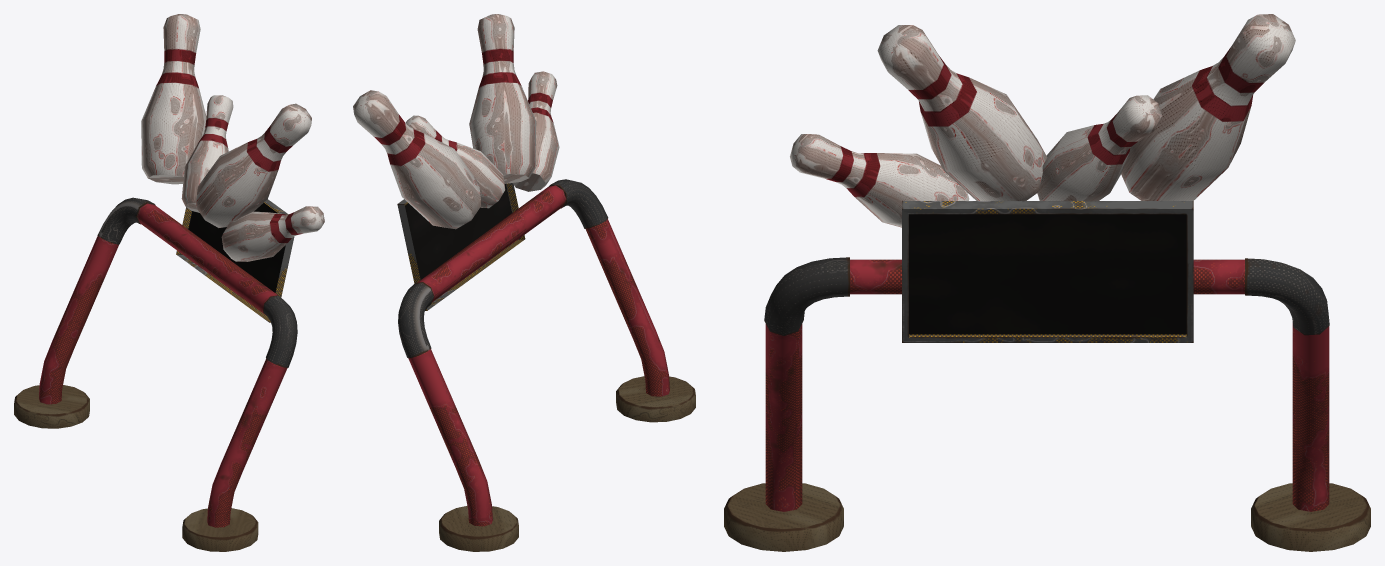
The model's file is SM_BDeckTele.glb.
3 renders of one model, left to right at view 1: azimuth 30°, elevation 25°; view 2: azimuth 150°, elevation 25°; view 3: azimuth 270°, elevation 25°, orthographic. The views are drawn at different scales.
Visible parts, largest first — view 1: SM_BDeckTele; view 2: SM_BDeckTele; view 3: SM_BDeckTele.
Boxes of the visible parts, <box> form: SM_BDeckTele: <box>14,14,324,551</box>; SM_BDeckTele: <box>353,14,695,551</box>; SM_BDeckTele: <box>724,14,1370,551</box>.
Size of the model in its own units: 2.26 by 5.01 by 4.91.
Materials: 2 (2 with a texture image).
